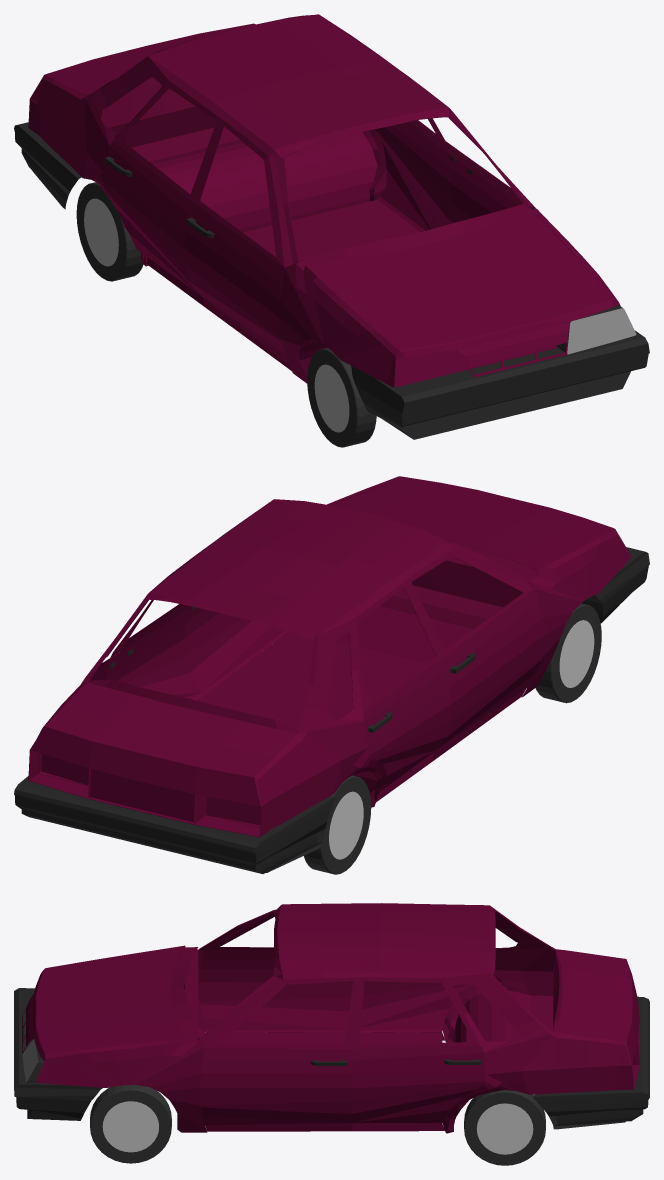
The model's file is 99 exp.fbx.
3 renders of one model, top to bottom at view 1: azimuth 30°, elevation 25°; view 2: azimuth 150°, elevation 25°; view 3: azimuth 270°, elevation 25°, orthographic. The views are drawn at different scales.
Visible parts, largest first — view 1: Капот, Заднее крыло, Крыша, Кузов, Plane.008, Кузов.003, Передние крылья, Circle.001, Кузов.002, Кузов.007, Хлопушка, Plane.007 (+5 smaller); view 2: Хлопушка, Крыша, Передние крылья, Кузов, Заднее крыло, Капот, Plane.009, Кузов.002, Кузов.003, Circle.001, Кузов.007, Plane.008 (+5 smaller); view 3: Заднее крыло, Крыша, Кузов, Кузов.007, Капот, Circle.001, Кузов.003, Передние крылья, Хлопушка, Plane.009, Кузов.002, Plane.008 (+6 smaller).
Part boxes in pixels (x1=…): Капот: x1=309, y1=210, x2=613, y2=357; Заднее крыло: x1=31, y1=56, x2=386, y2=266; Крыша: x1=148, y1=14, x2=451, y2=157; Кузов: x1=101, y1=41, x2=451, y2=295; Plane.008: x1=351, y1=330, x2=649, y2=439; Кузов.003: x1=184, y1=120, x2=288, y2=363; Передние крылья: x1=278, y1=206, x2=620, y2=387; Circle.001: x1=76, y1=182, x2=376, y2=447; Кузов.002: x1=146, y1=200, x2=420, y2=370; Кузов.007: x1=430, y1=118, x2=522, y2=225; Хлопушка: x1=28, y1=23, x2=255, y2=135; Plane.007: x1=302, y1=203, x2=531, y2=263; Хлопушка: x1=28, y1=682, x2=297, y2=837; Крыша: x1=148, y1=499, x2=451, y2=634; Передние крылья: x1=335, y1=535, x2=630, y2=697; Кузов: x1=105, y1=549, x2=451, y2=786; Заднее крыло: x1=38, y1=593, x2=386, y2=828; Капот: x1=331, y1=477, x2=612, y2=568; Plane.009: x1=14, y1=776, x2=335, y2=873; Кузов.002: x1=197, y1=631, x2=526, y2=802; Кузов.003: x1=406, y1=549, x2=545, y2=749; Circle.001: x1=304, y1=603, x2=601, y2=874; Кузов.007: x1=184, y1=606, x2=288, y2=695; Plane.008: x1=581, y1=547, x2=649, y2=623; Заднее крыло: x1=442, y1=905, x2=630, y2=1133; Крыша: x1=273, y1=903, x2=489, y2=979; Кузов: x1=351, y1=977, x2=485, y2=1123; Кузов.007: x1=199, y1=977, x2=358, y2=1126; Капот: x1=29, y1=947, x2=184, y2=1056; Circle.001: x1=90, y1=1084, x2=545, y2=1165; Кузов.003: x1=199, y1=913, x2=352, y2=1032; Передние крылья: x1=36, y1=949, x2=207, y2=1132; Хлопушка: x1=556, y1=949, x2=639, y2=1089; Plane.009: x1=532, y1=996, x2=649, y2=1129; Кузов.002: x1=205, y1=1032, x2=445, y2=1131; Plane.008: x1=14, y1=988, x2=102, y2=1120.
Size of the model in its own units: 726 by 589 by 1829.
